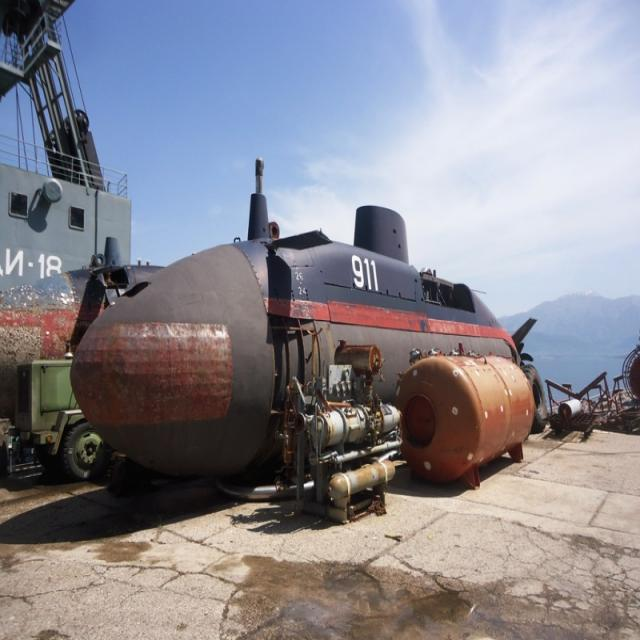submarine: (83, 192, 545, 469)
